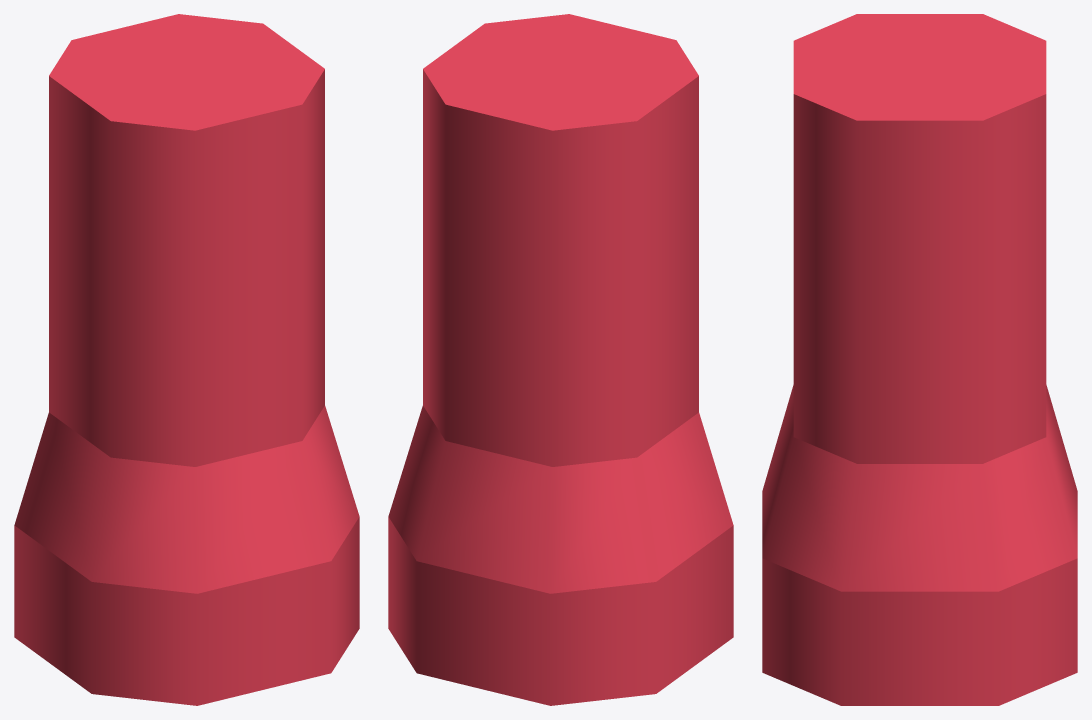
File: support_bottom.fbx
3 renders of one model, left to right at view 1: azimuth 30°, elevation 25°; view 2: azimuth 150°, elevation 25°; view 3: azimuth 270°, elevation 25°, orthographic. The views are drawn at different scales.
Visible parts, largest first — view 1: support_bottom; view 2: support_bottom; view 3: support_bottom.
Boxes of the visible parts, left/top/right/bottom form: support_bottom: left=14, top=14, right=359, bottom=705; support_bottom: left=388, top=14, right=733, bottom=705; support_bottom: left=762, top=14, right=1077, bottom=705.
Size of the model in its own units: 5 by 10 by 5.
